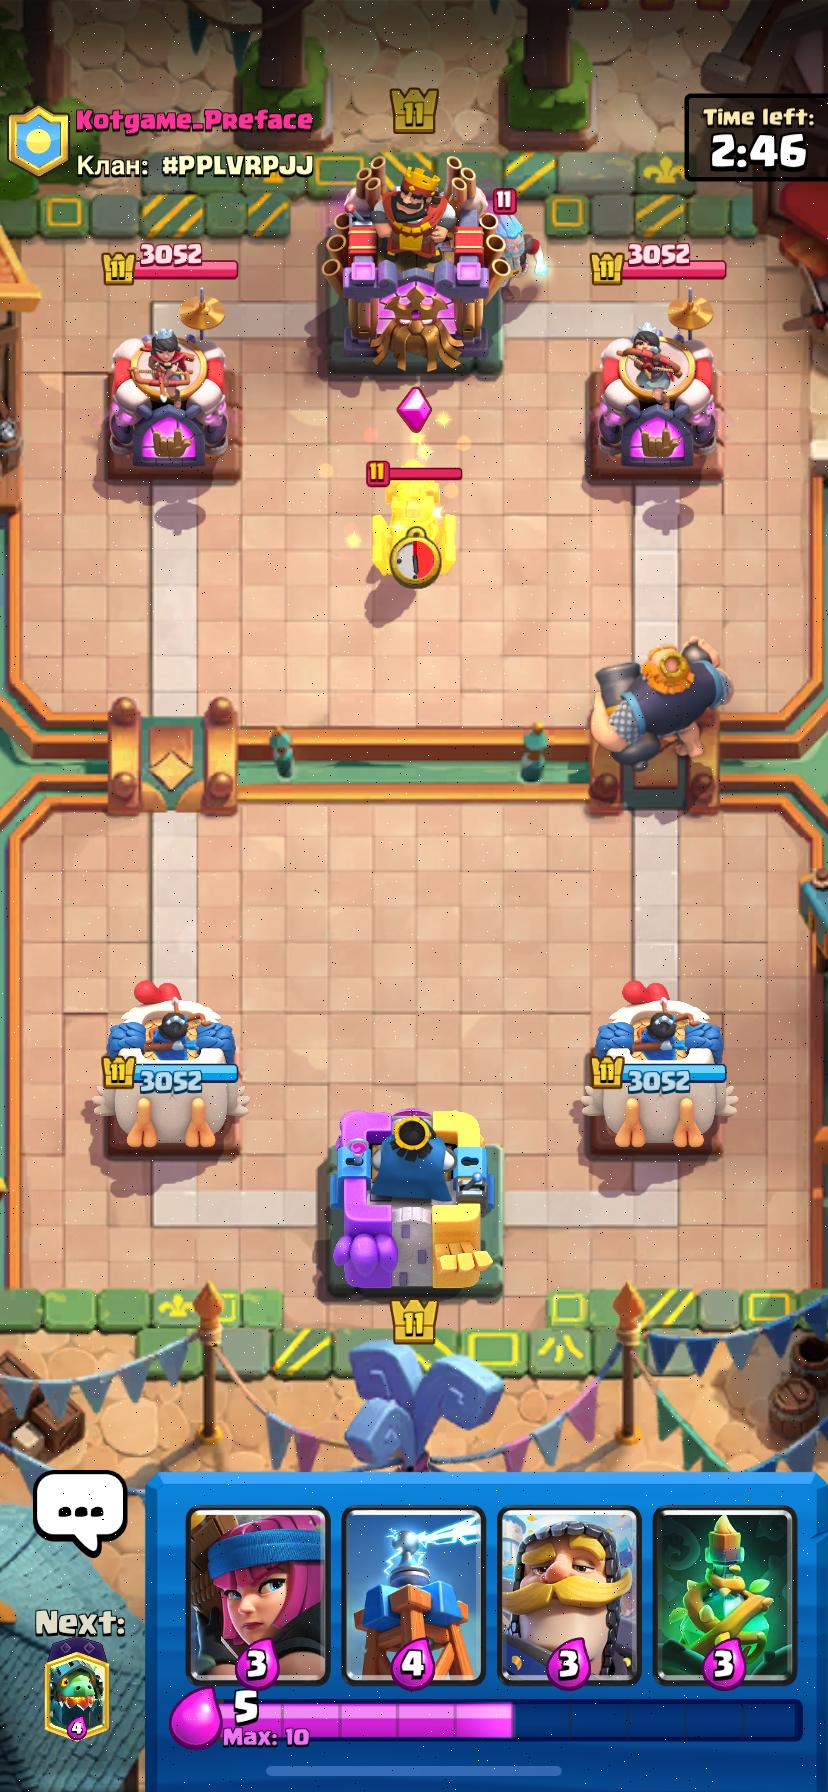EIceWizard: (500, 214, 547, 287)
EKingTower: (323, 155, 526, 373)
ETesla: (372, 469, 455, 574)
EnemyPrincessTower: (589, 287, 716, 473), (109, 328, 226, 467), (668, 286, 712, 343)
ORoyalG: (592, 639, 731, 768)
OwnKingTower: (328, 1109, 502, 1296)
OwnPrincessTower: (582, 981, 735, 1151), (94, 982, 247, 1149)
